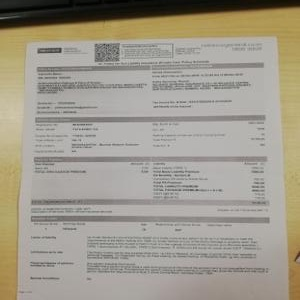table: (31, 216, 272, 283), (35, 62, 266, 115), (34, 155, 265, 202), (34, 114, 266, 158), (32, 202, 269, 216)
